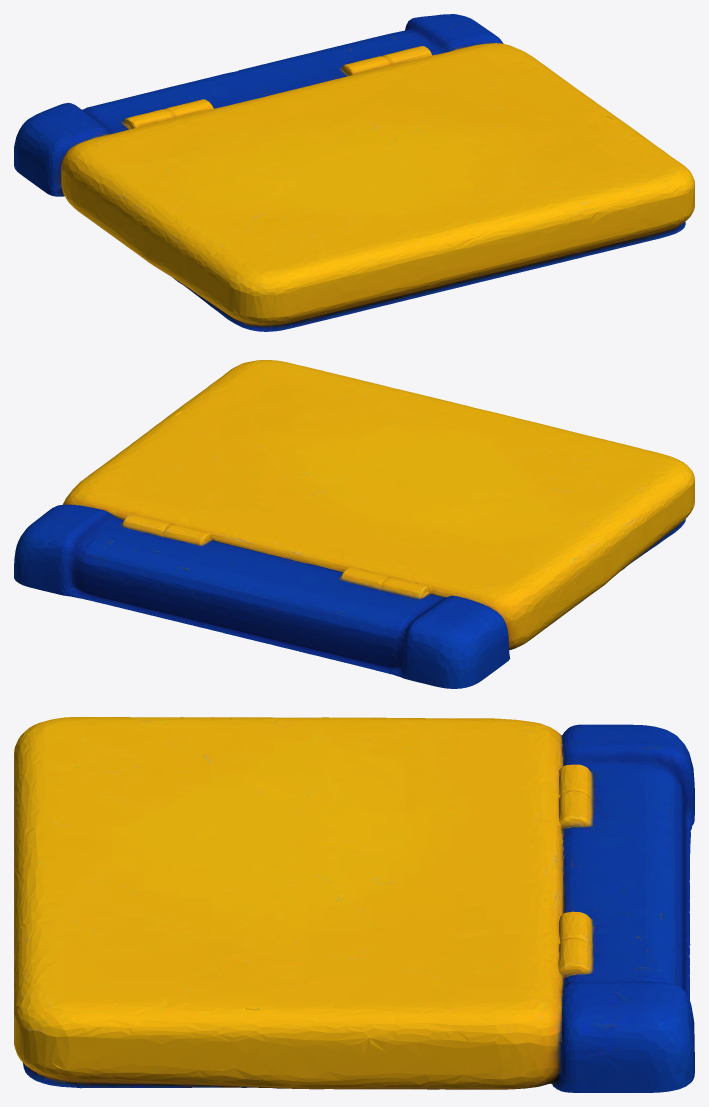
The model's file is lid.glb.
The picture shows the model from 3 angles, top to bottom: view 1: azimuth 30°, elevation 25°; view 2: azimuth 150°, elevation 25°; view 3: azimuth 270°, elevation 25°; orthographic projection. The views are drawn at different scales.
Parts seen in each view (by area): view 1: source_surface_0; view 2: source_surface_0; view 3: source_surface_0.
Part boxes in pixels (<box>): source_surface_0: <box>14,14,694,331</box>; source_surface_0: <box>14,360,694,688</box>; source_surface_0: <box>14,717,694,1092</box>.
Size of the model in its own units: 0.2499 by 0.0287 by 0.2312.
1 material, 1 textured.
